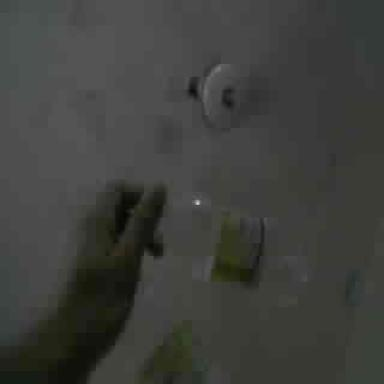bottle: (141, 187, 314, 312)
